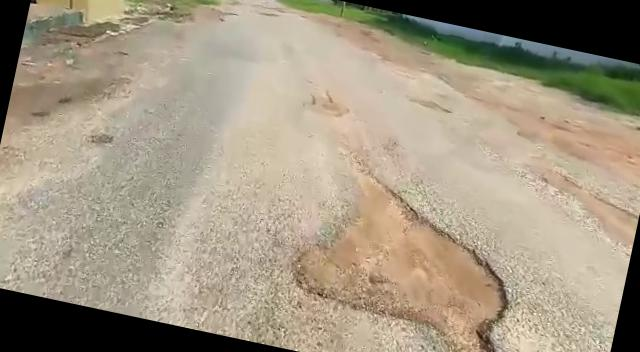pothole: (275, 177, 535, 352), (499, 156, 640, 262), (300, 94, 348, 124), (406, 94, 453, 116)
